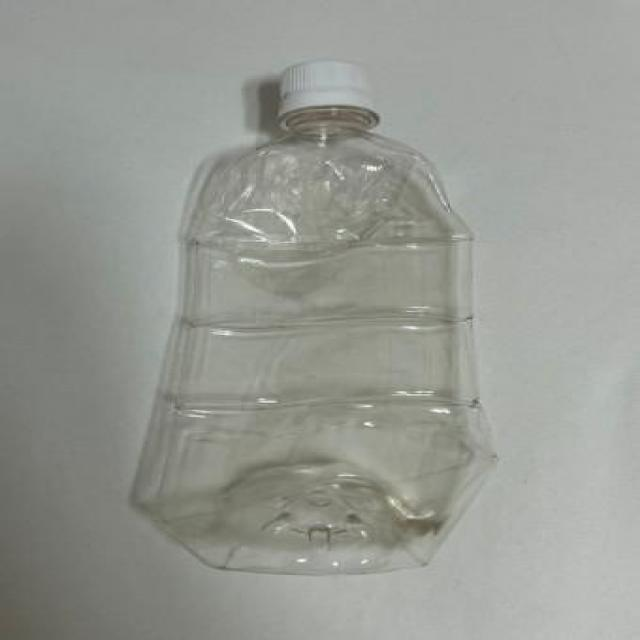bottle: (118, 45, 515, 602)
